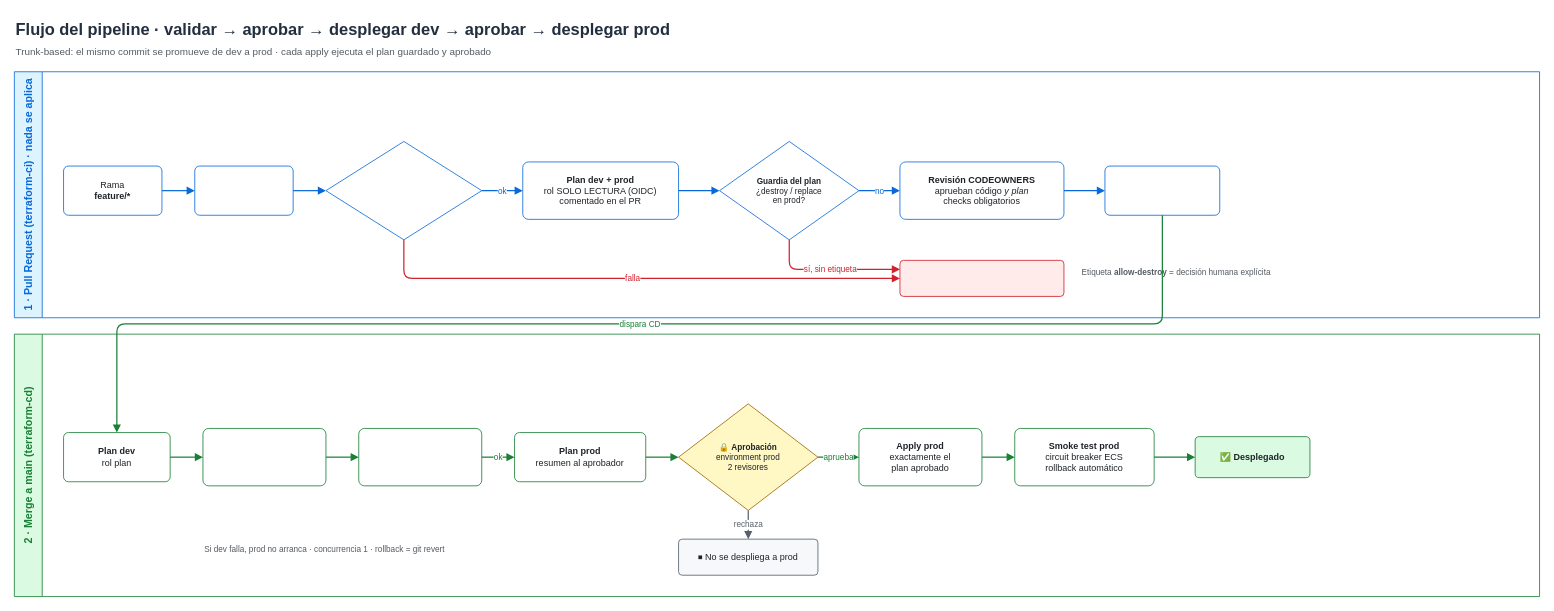
Some shapes in this 1554 by 611 pixel diagram are drawn without their labels. The shapes that lost their labels are listed below. From the top down, each one's centre as x and y in pixels, then its label:
the point at 243,190: Pull Request a main
the point at 403,190: Validación estática fmt · validate · tflint terraform test Checkov · Gitleaks
the point at 1162,190: Merge a main (squash)
the point at 981,278: ❌ Merge bloqueado
the point at 264,457: Apply dev environment dev plan guardado
the point at 420,457: Smoke test dev services-stable + GET /health
